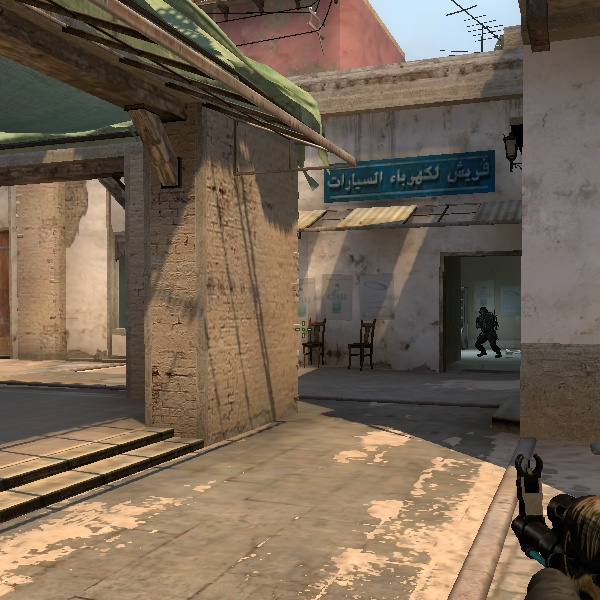ct_body: (468, 302, 505, 354)
ct_head: (476, 305, 491, 320)
